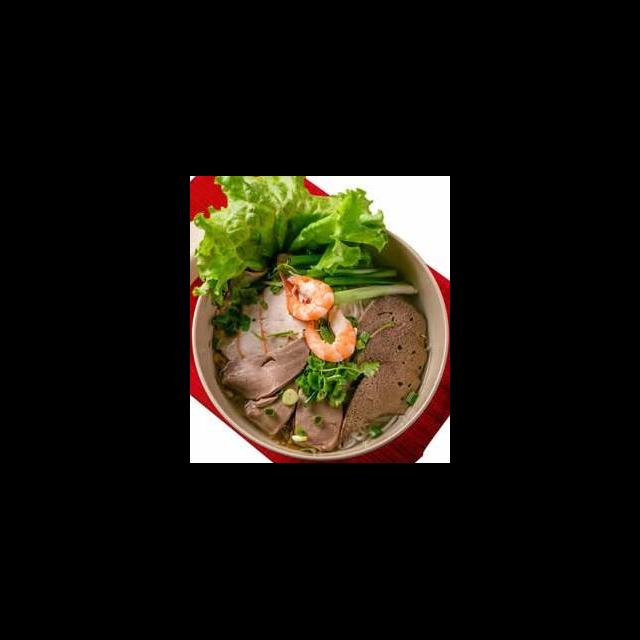gan: (334, 358, 423, 452), (336, 321, 431, 394), (346, 293, 431, 372)
thit heo: (211, 264, 270, 366), (259, 282, 317, 360), (235, 290, 276, 362)
tom: (301, 302, 359, 363), (275, 268, 336, 324)
